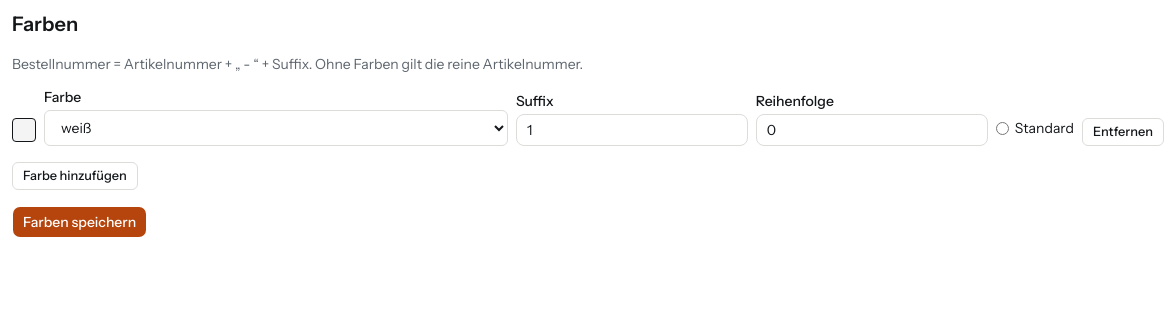
it: ColorSection › makes an added row the default when no default exists
Expected: the radio button is not checked, [996,122,1009,134]
Click the button "Farbe hinzufügen": (75, 176) [12,162,138,190]
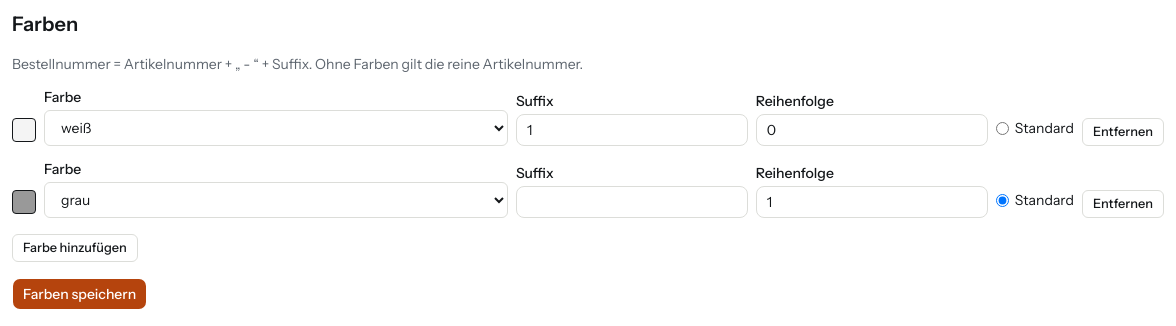
Expected: the 1st radio button labelled "Standard" is not checked, [996,122,1009,134]
Result: the 2nd radio button labelled "Standard" is checked at [996,194,1009,206]
